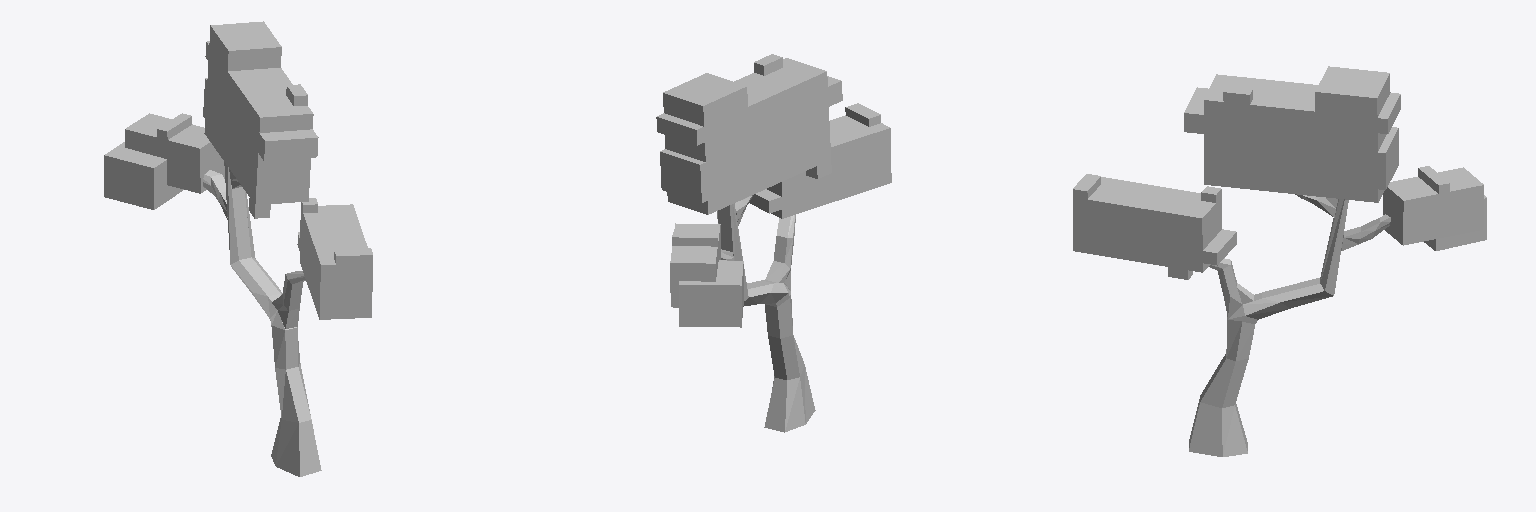
File: Sakura 2 (1).obj
The picture shows the model from 3 angles: view 1: azimuth 30°, elevation 25°; view 2: azimuth 150°, elevation 25°; view 3: azimuth 270°, elevation 25°; orthographic projection.
Visible parts, largest first — view 1: Sakura 2 (1); view 2: Sakura 2 (1); view 3: Sakura 2 (1).
Part boxes in pixels (x1,y1,x2,y2): Sakura 2 (1): (104, 21, 372, 476); Sakura 2 (1): (656, 54, 891, 432); Sakura 2 (1): (1073, 66, 1486, 456).
Bounding box in the file's own units: 1.3 × 3.74 × 3.73.